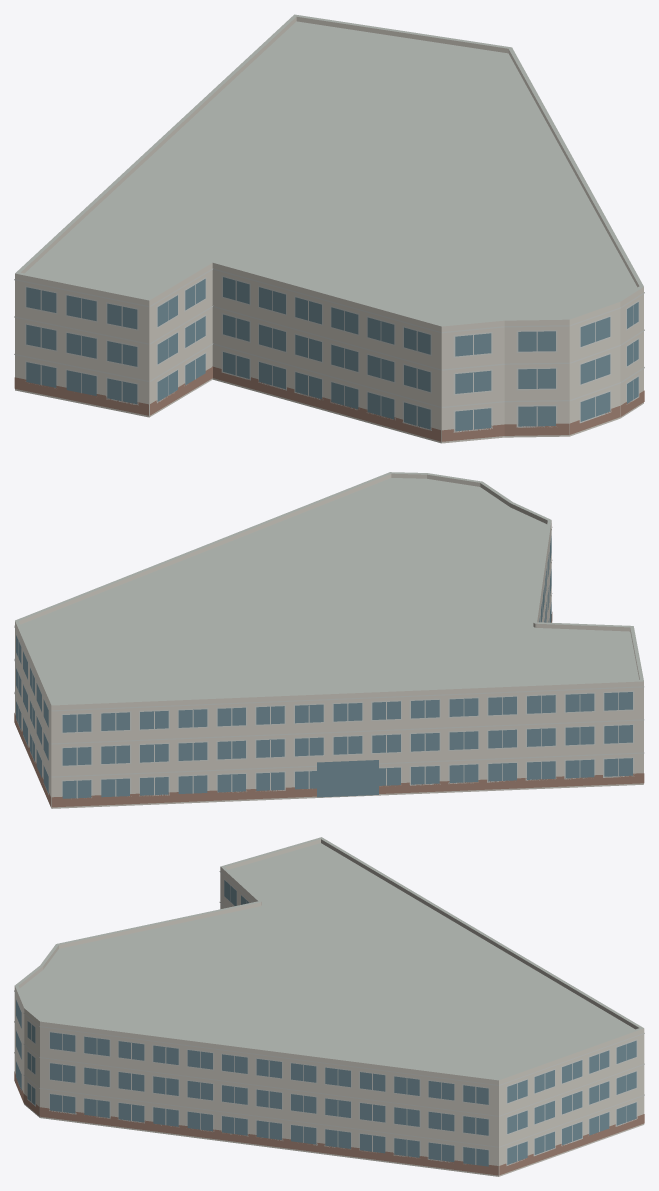
Rendered from public-096a541c-6d60-4fe2-a4c5-04b6a33c0d4e.glb.
3 views of the same model, one above another, from view 1: azimuth 30°, elevation 25°; view 2: azimuth 150°, elevation 25°; view 3: azimuth 270°, elevation 25° (orthographic). The views are drawn at different scales.
Parts seen in each view (by area): view 1: public-096a541c-6d60-4fe2-a4c5-04b6a33c0d4e; view 2: public-096a541c-6d60-4fe2-a4c5-04b6a33c0d4e; view 3: public-096a541c-6d60-4fe2-a4c5-04b6a33c0d4e.
Part boxes in pixels (box(x1,y1,x2,y2)): public-096a541c-6d60-4fe2-a4c5-04b6a33c0d4e: box(14, 14, 644, 443); public-096a541c-6d60-4fe2-a4c5-04b6a33c0d4e: box(14, 472, 644, 808); public-096a541c-6d60-4fe2-a4c5-04b6a33c0d4e: box(14, 837, 644, 1176).
Bounding box in the file's own units: 49.62 × 9.15 × 54.24.
